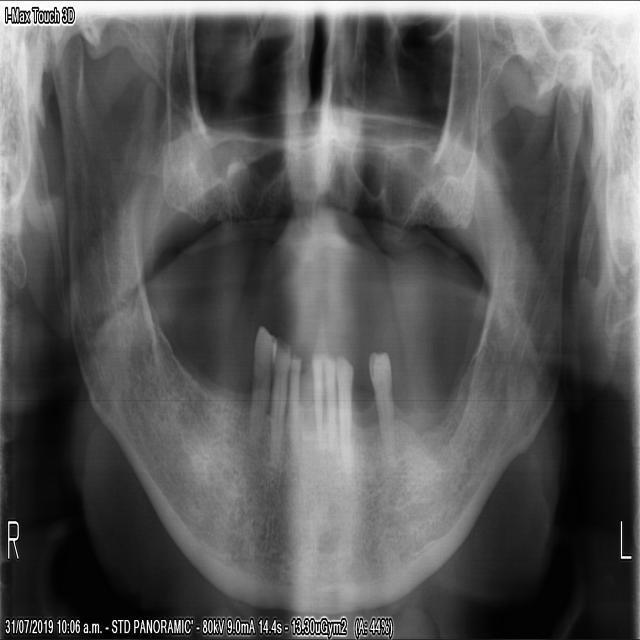LCD: (336, 353, 354, 439)
LID: (308, 352, 323, 440), (322, 348, 336, 434)
LPMD: (366, 347, 393, 449)
RCD: (267, 338, 291, 465)
RID: (286, 353, 302, 437)
RPMD: (245, 324, 276, 440)
